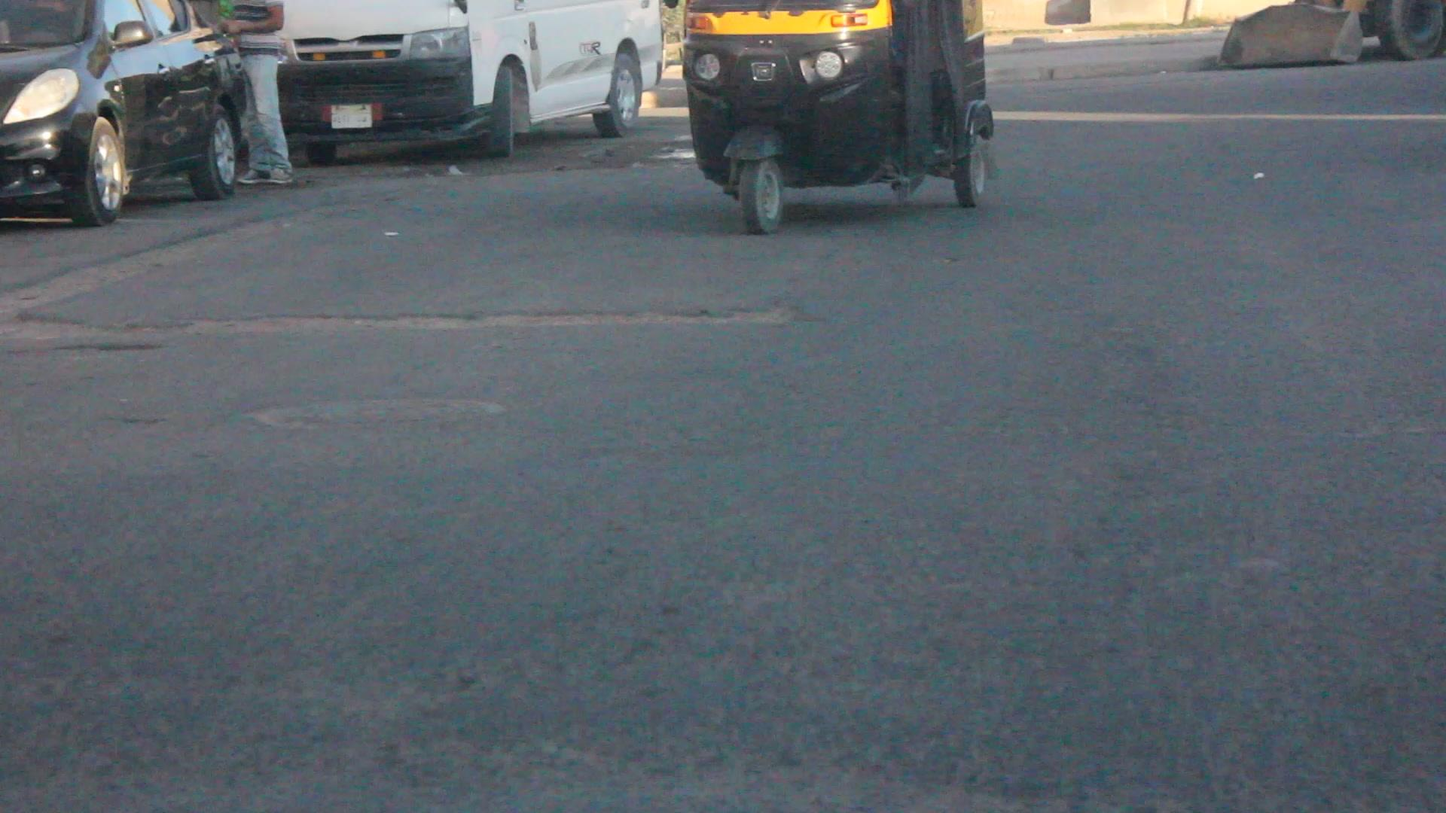Pothole: (47, 299, 838, 335)
